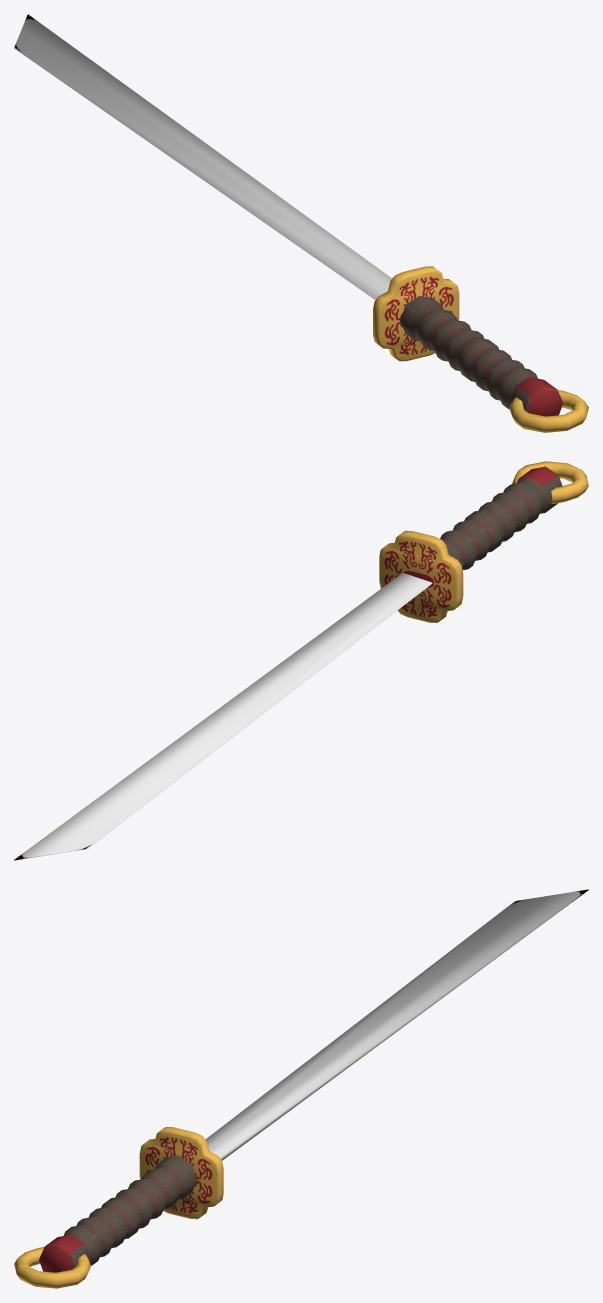
File: katana.glb
3 renders of one model, top to bottom at view 1: azimuth 30°, elevation 25°; view 2: azimuth 150°, elevation 25°; view 3: azimuth 330°, elevation 25°, orthographic. The views are drawn at different scales.
Parts seen in each view (by area): view 1: Object_3, Object_4, Object_2; view 2: Object_3, Object_4, Object_2; view 3: Object_3, Object_4, Object_2.
Part boxes in pixels (x1,y1,x2,y2): Object_3: (14, 14, 588, 432); Object_4: (400, 296, 563, 416); Object_2: (373, 266, 453, 357); Object_3: (14, 461, 588, 860); Object_4: (440, 466, 562, 570); Object_2: (385, 530, 463, 619); Object_3: (14, 889, 588, 1288); Object_4: (39, 1155, 197, 1272); Object_2: (146, 1127, 223, 1215).
Bounding box in the file's own units: 0.085 × 0.085 × 1.
3 materials, 3 textured.
